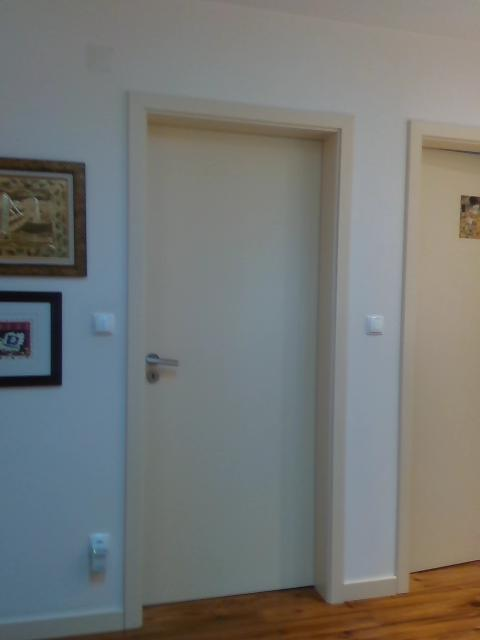door: (141, 126, 327, 604), (410, 147, 479, 573)
